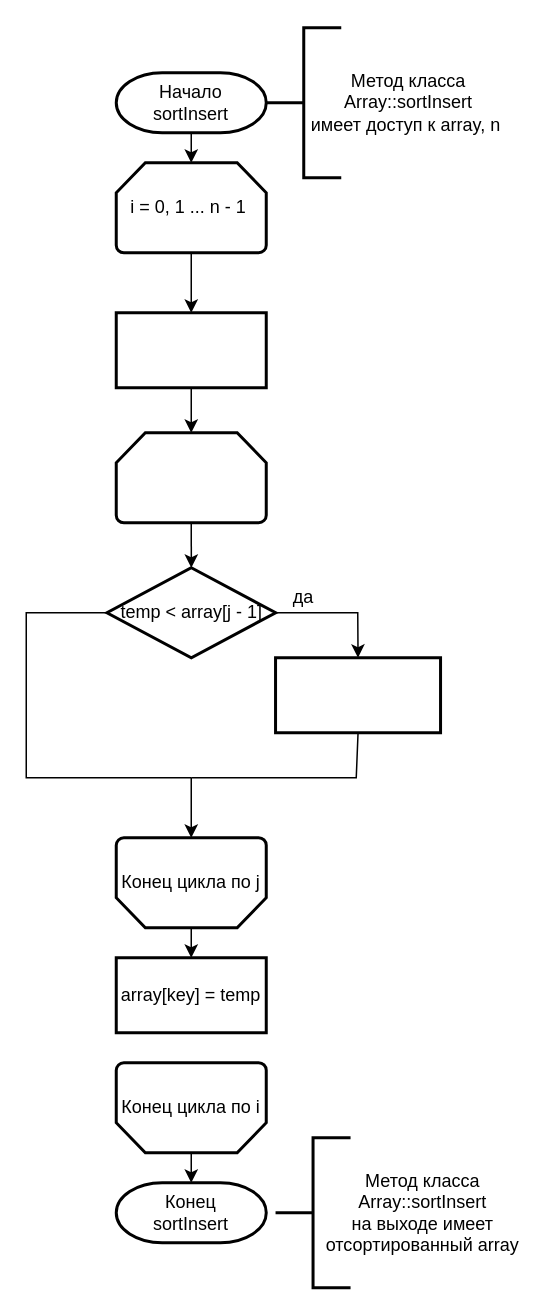
Image size: 554x1314. Some labels were removed from this diagram. The shapes that lost their labels are listed below. From the top down, each one's box as (x1, y1, x2, y2) in pixels, then its label:
(114, 310, 267, 388): key = i + 1 temp = array[key]
(114, 430, 267, 524): j = i + 1 ... 1, 0
(273, 656, 441, 734): array[j] = array[j - 1] key = j - 1
